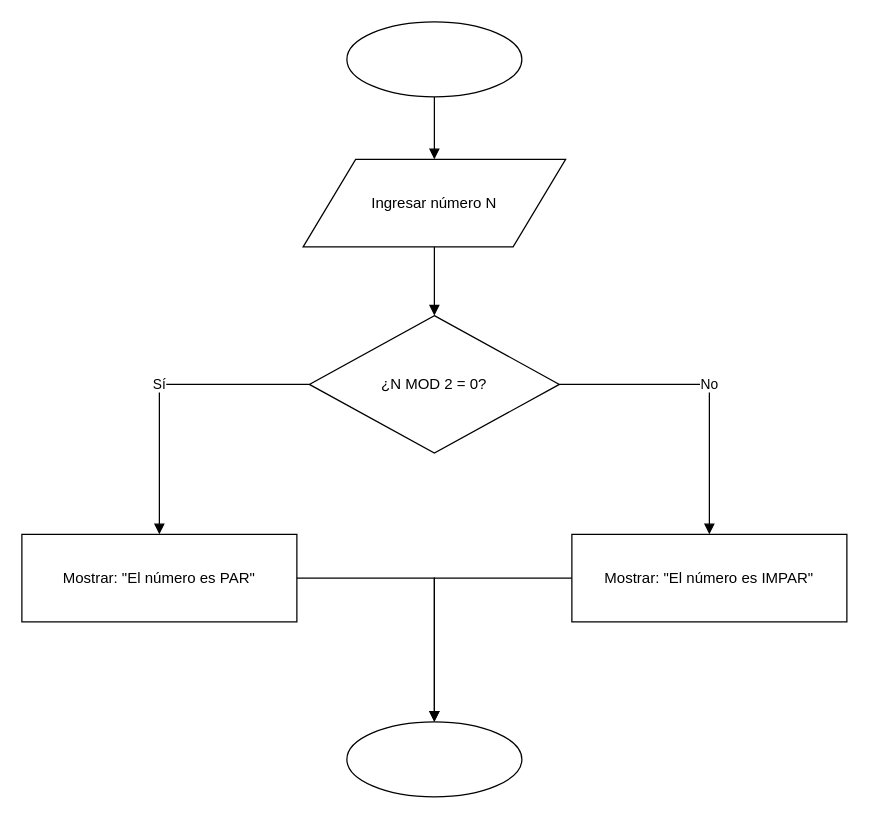
Some shapes in this 869 by 819 pixel diagram are drawn without their labels. The box of each missing label's shape, as (x1, y1, x2, y2) in pixels:
FIN: (346, 721, 522, 797)
INICIO: (346, 21, 522, 97)
